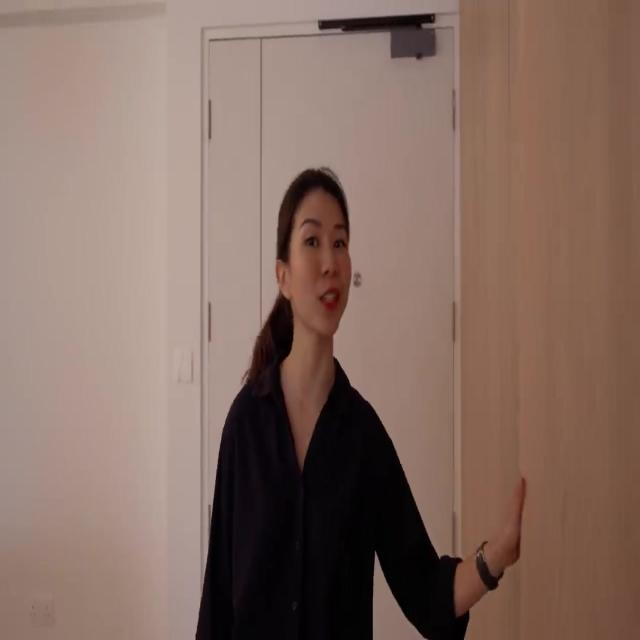person: (194, 165, 526, 639)
